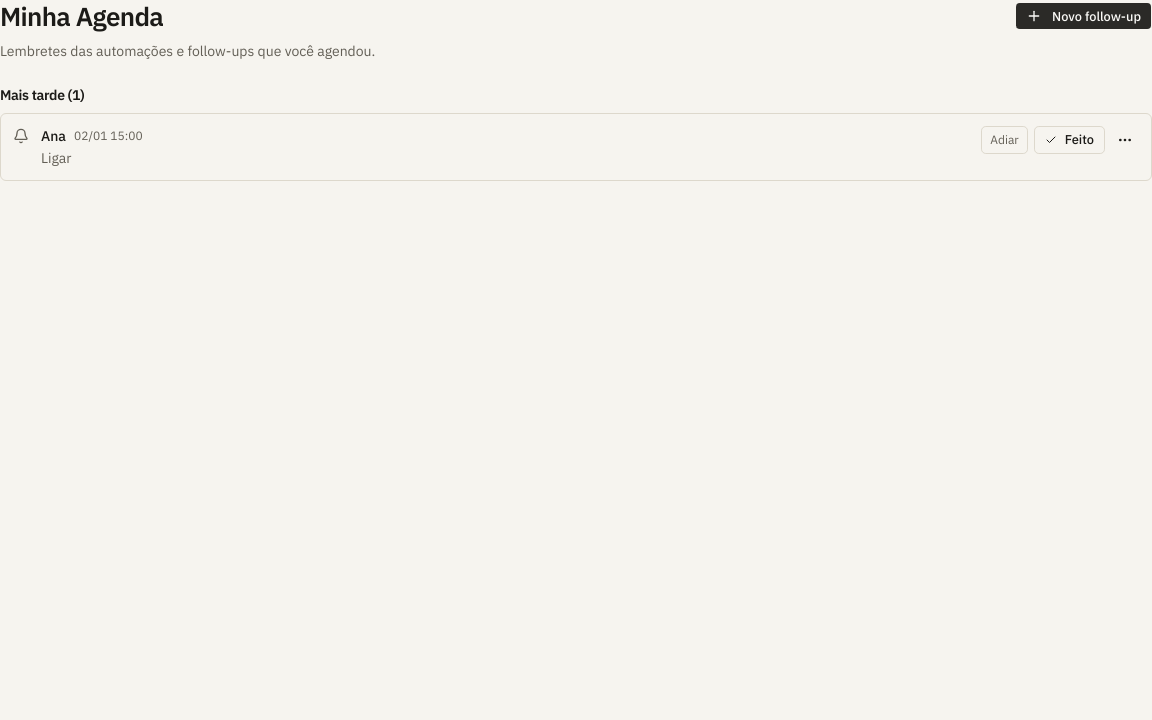
Test: B48-06 — Agenda com editar, apagar e desfazer › CA-B48-12: Apagar pede confirmação com o nome e tira o item da lista
Press the mouse on the button named "Abrir menu de Ana": (1125, 140) [1111,126,1139,154]
Click the button named "Abrir menu de Ana": (1125, 140) [1111,126,1139,154]
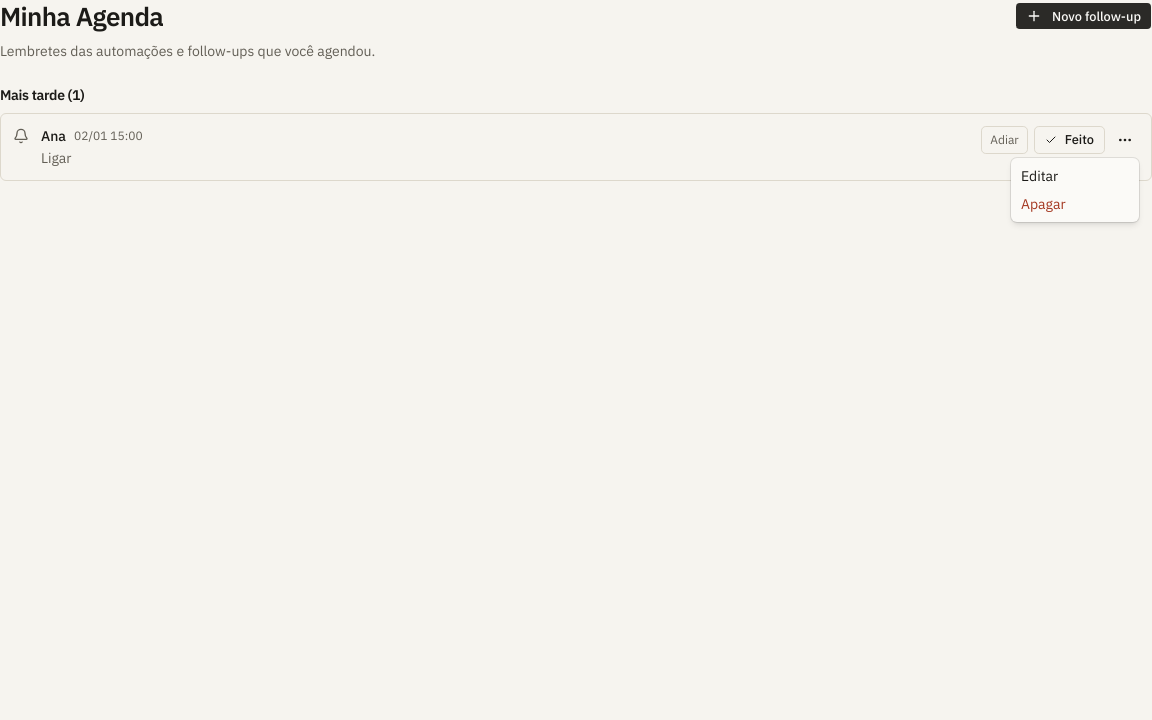
Click the menu item "Apagar": (1043, 204) [1021,195,1066,213]
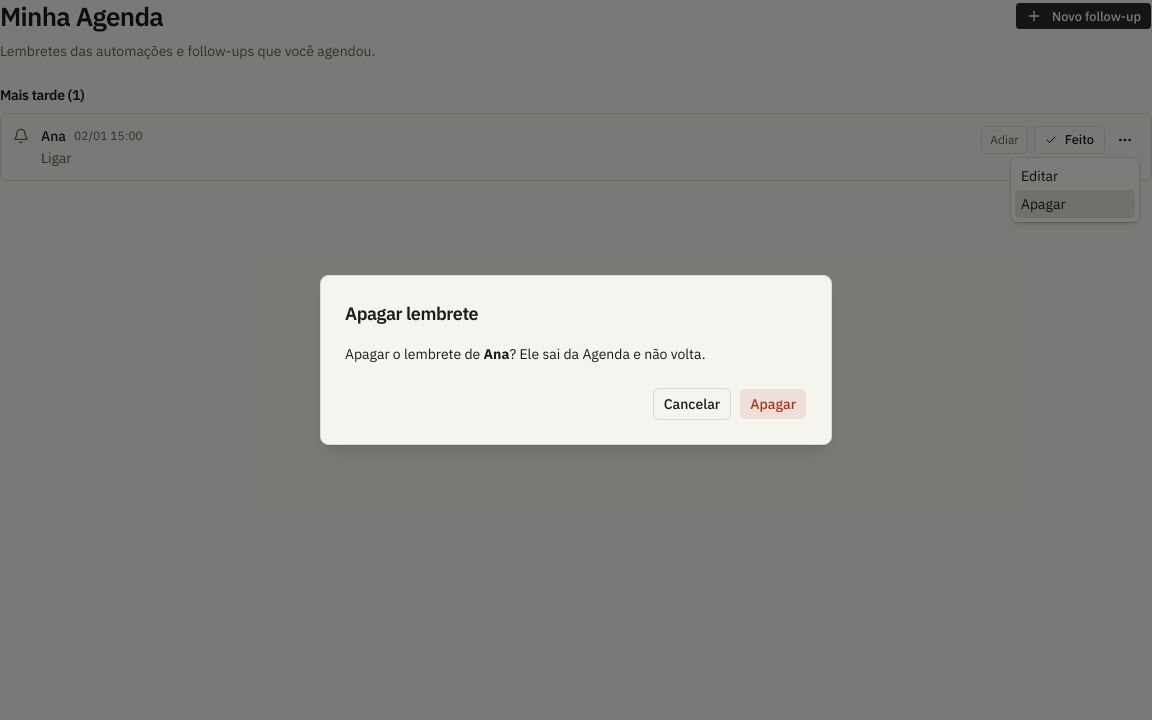
Now the text "Ana" is shown, box [484,345,509,363]
Click the button "Apagar": (773, 404) [739,388,807,420]
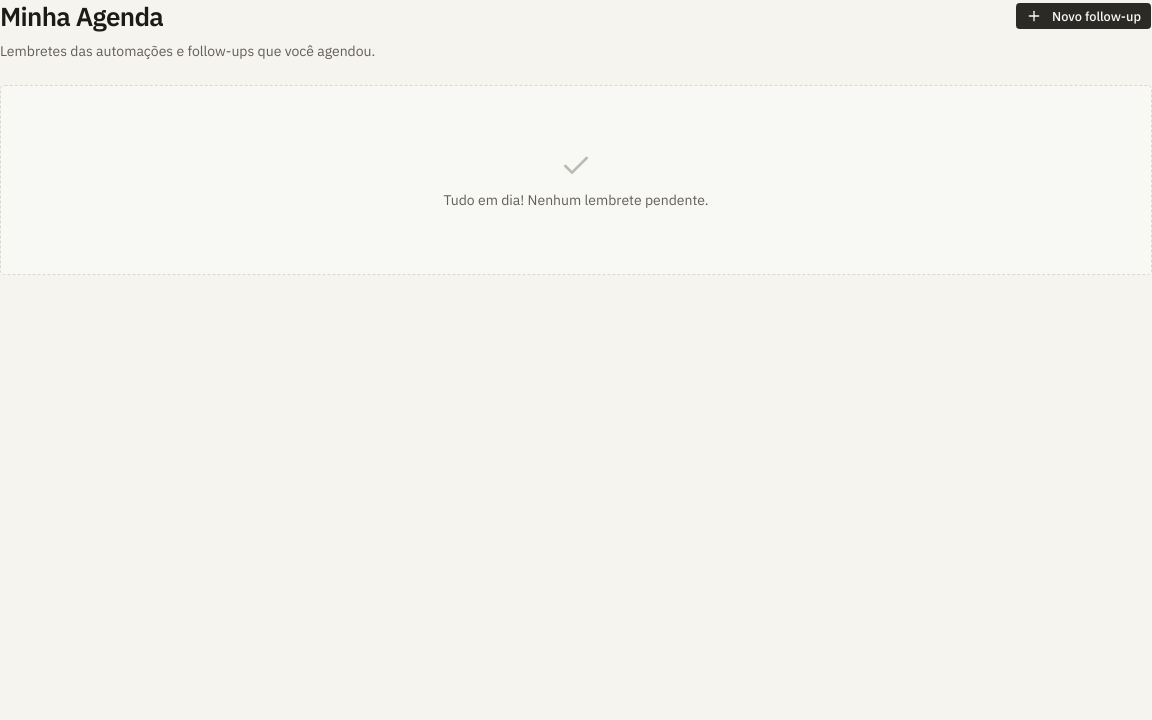
Now the text "Ligar" is gone
